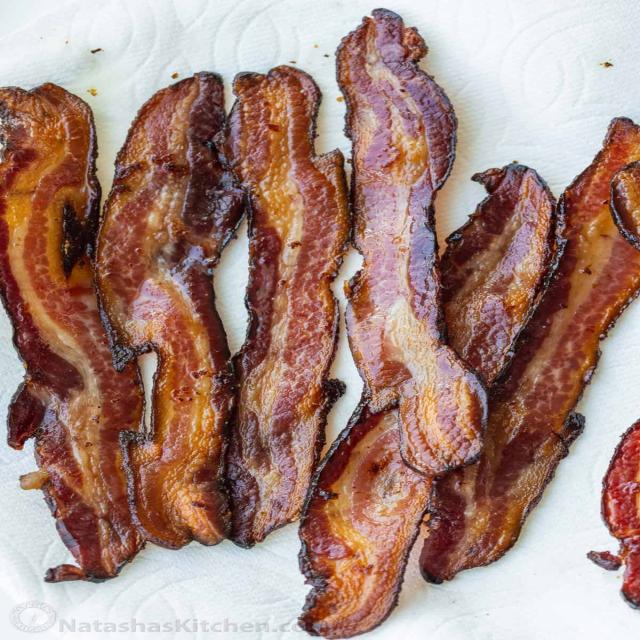Bacon: (420, 118, 639, 582), (0, 84, 144, 582), (96, 72, 244, 549), (337, 9, 485, 478), (221, 66, 350, 548), (298, 401, 433, 639), (440, 164, 555, 384), (290, 266, 294, 268)
